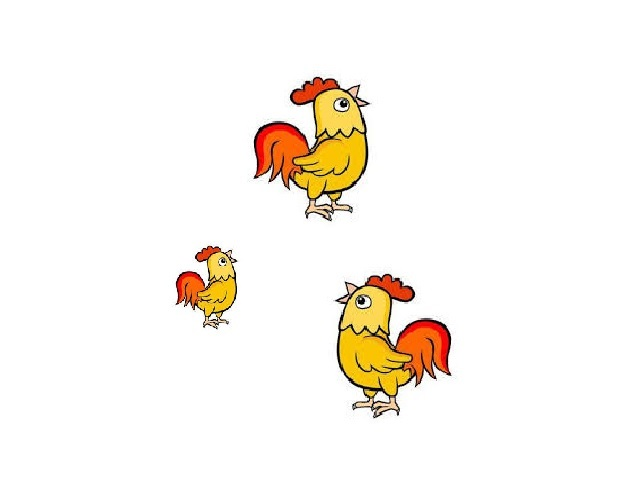crown: (289, 76, 336, 102), (371, 277, 417, 300), (189, 248, 219, 256)
eyes: (349, 291, 370, 308), (333, 96, 351, 114), (219, 259, 228, 268)
feet: (297, 194, 355, 216), (353, 395, 402, 420), (202, 315, 235, 329)
tail: (398, 319, 444, 382), (253, 118, 297, 179), (175, 267, 209, 307)
